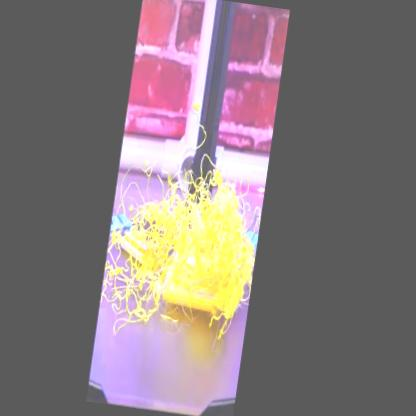fail: (100, 143, 268, 349)
